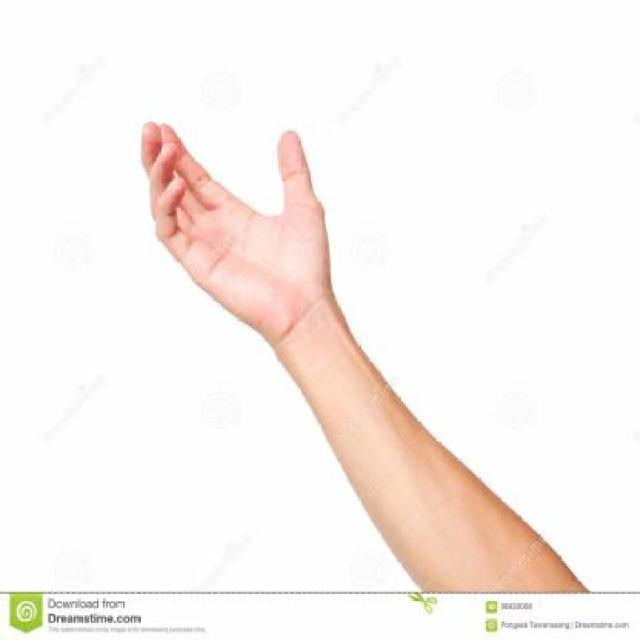no_apron: (128, 106, 356, 350)
